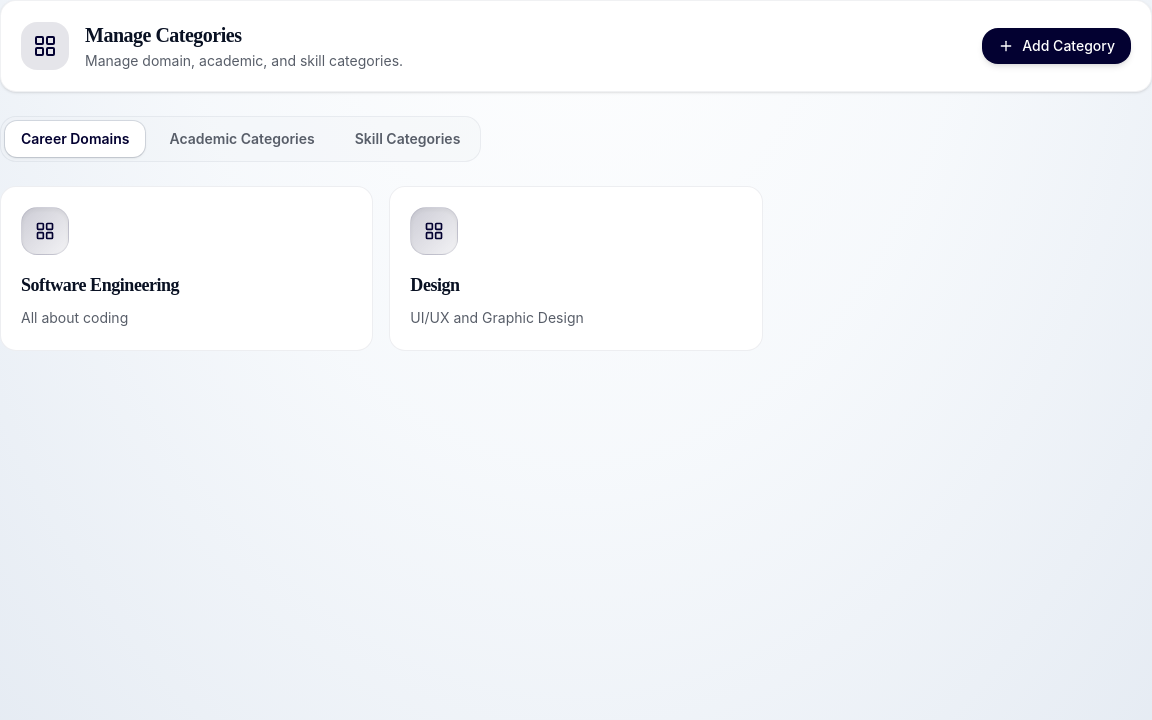
it: CategoriesManager › opens 'New Category' dialog on Add Category click
The width and height of the screenshot is (1152, 720).
Click the button "Add Category". click: (1057,46)
box: left=982, top=28, right=1131, bottom=64
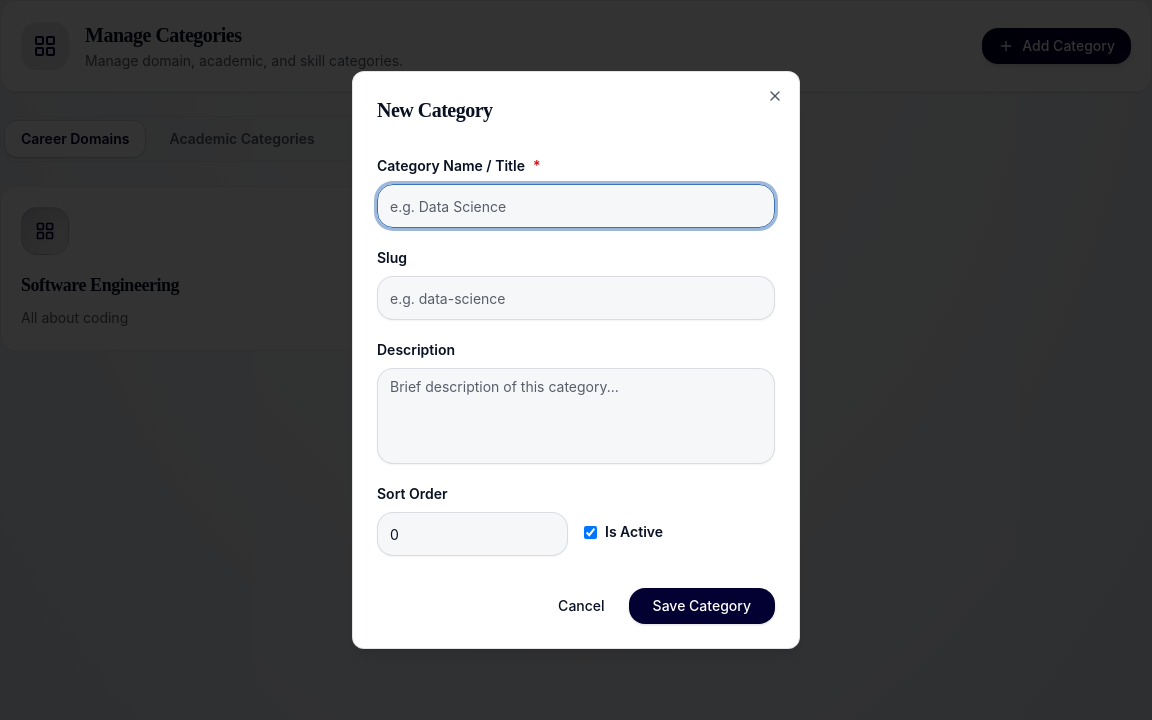
Expected: the heading "New Category" is shown, left=377, top=99, right=493, bottom=121
Expected: the field with placeholder "e.g. Data Science" is shown, left=377, top=184, right=775, bottom=228
